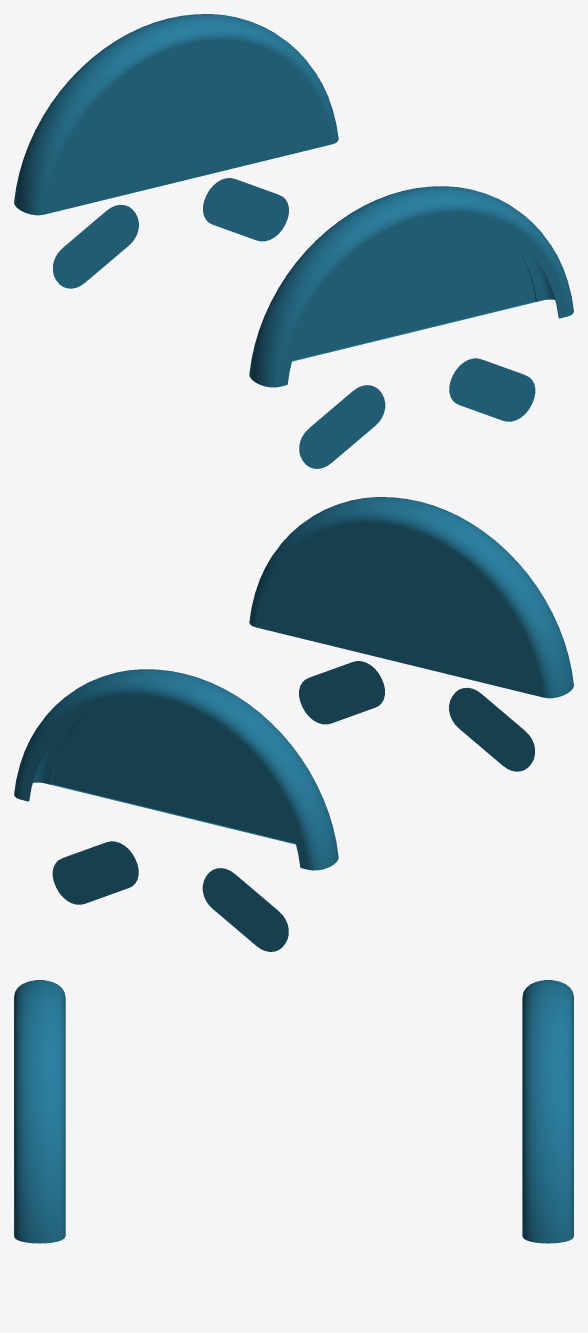
File: wheel_frame.fbx
The picture shows the model from 3 angles, top to bottom: view 1: azimuth 30°, elevation 25°; view 2: azimuth 150°, elevation 25°; view 3: azimuth 270°, elevation 25°; orthographic projection. The views are drawn at different scales.
Parts seen in each view (by area): view 1: wheel_frame; view 2: wheel_frame; view 3: wheel_frame.
Part boxes in pixels (x1,y1,x2,y2): wheel_frame: (14,14,573,468); wheel_frame: (14,497,573,951); wheel_frame: (14,980,573,1243).
Size of the model in its own units: 0.6308 by 0.4737 by 0.8981.
